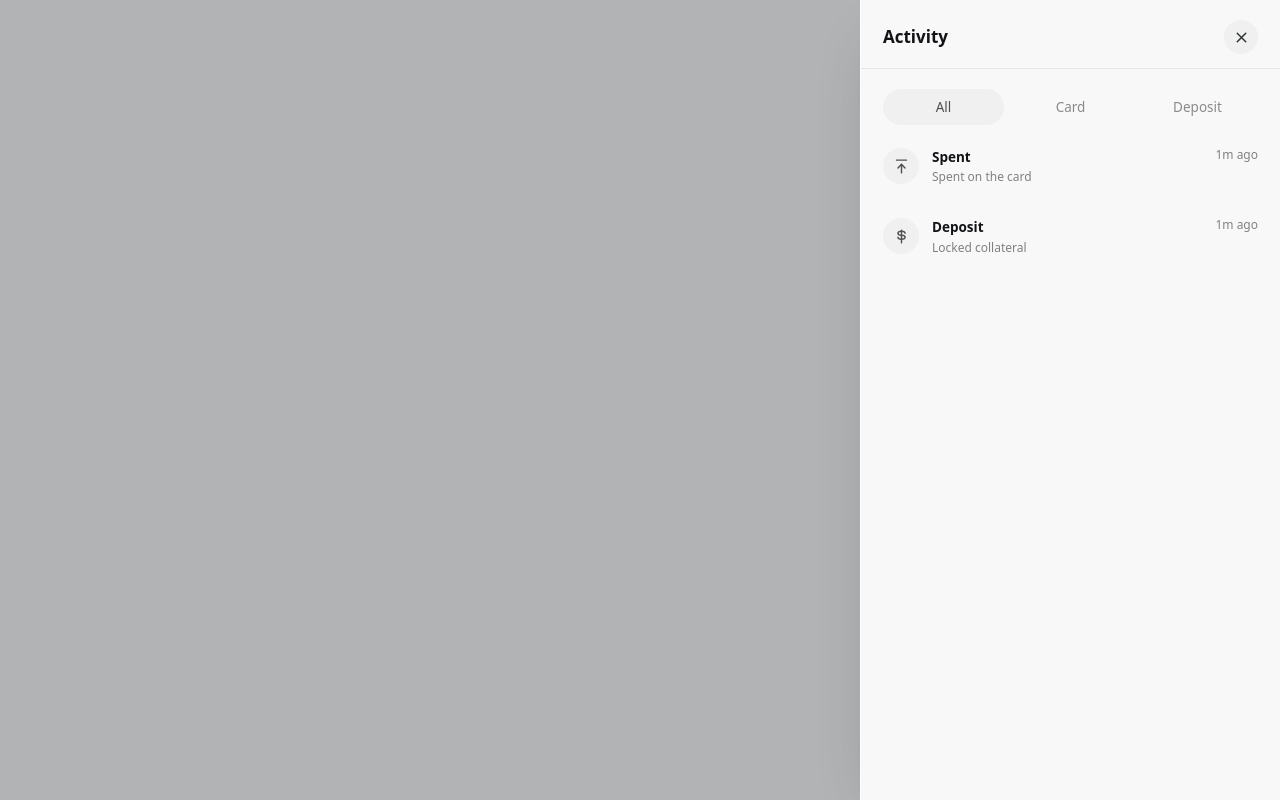
Scenario: each tab shows only its own group
The image size is (1280, 800).
Expected: the text "Spent on the card" is shown, [932,168,1032,185]
Expected: the text "Locked collateral" is shown, [932,238,1027,256]
Click the button "Card" at (1070,107), box [1010,89,1131,125]
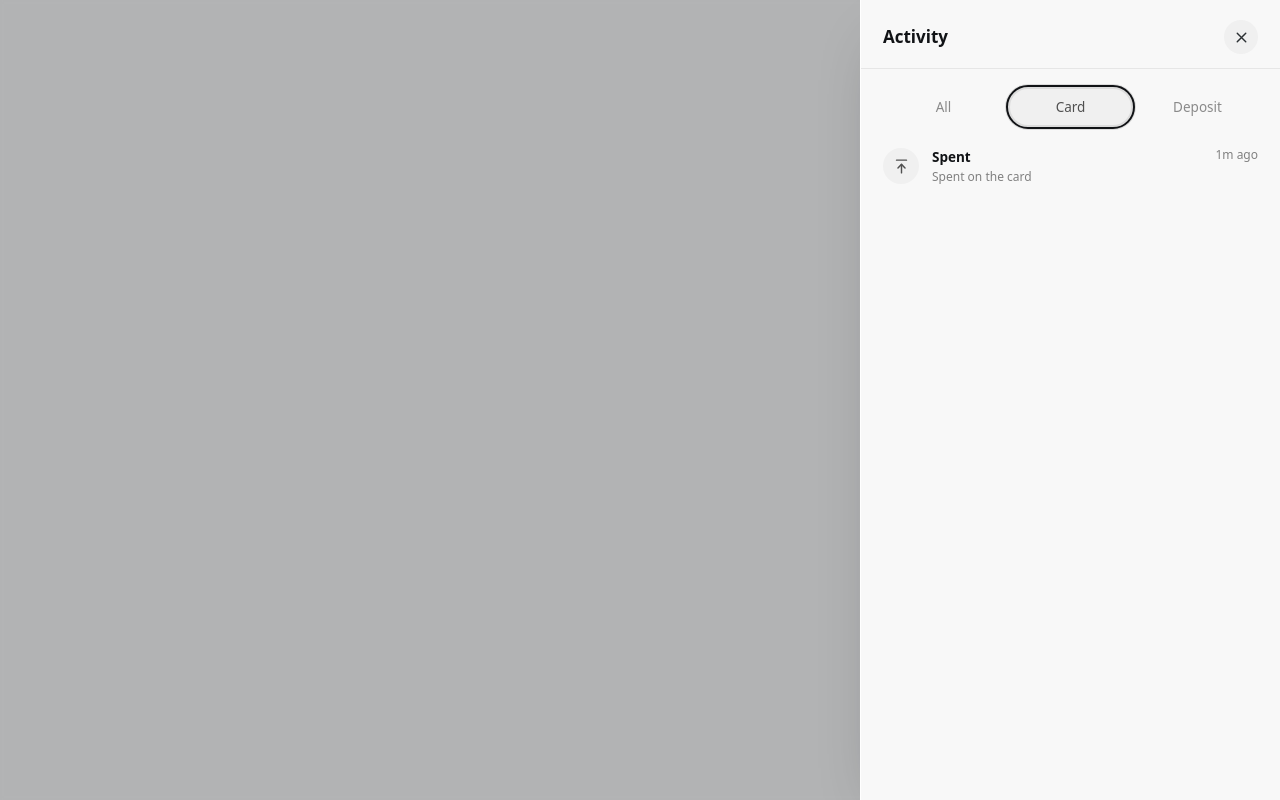
Expected: the text "Spent on the card" is shown, [932,168,1032,185]
Now the text "Locked collateral" is gone
Click the button "Deposit" at (1198,107), box [1137,89,1258,125]
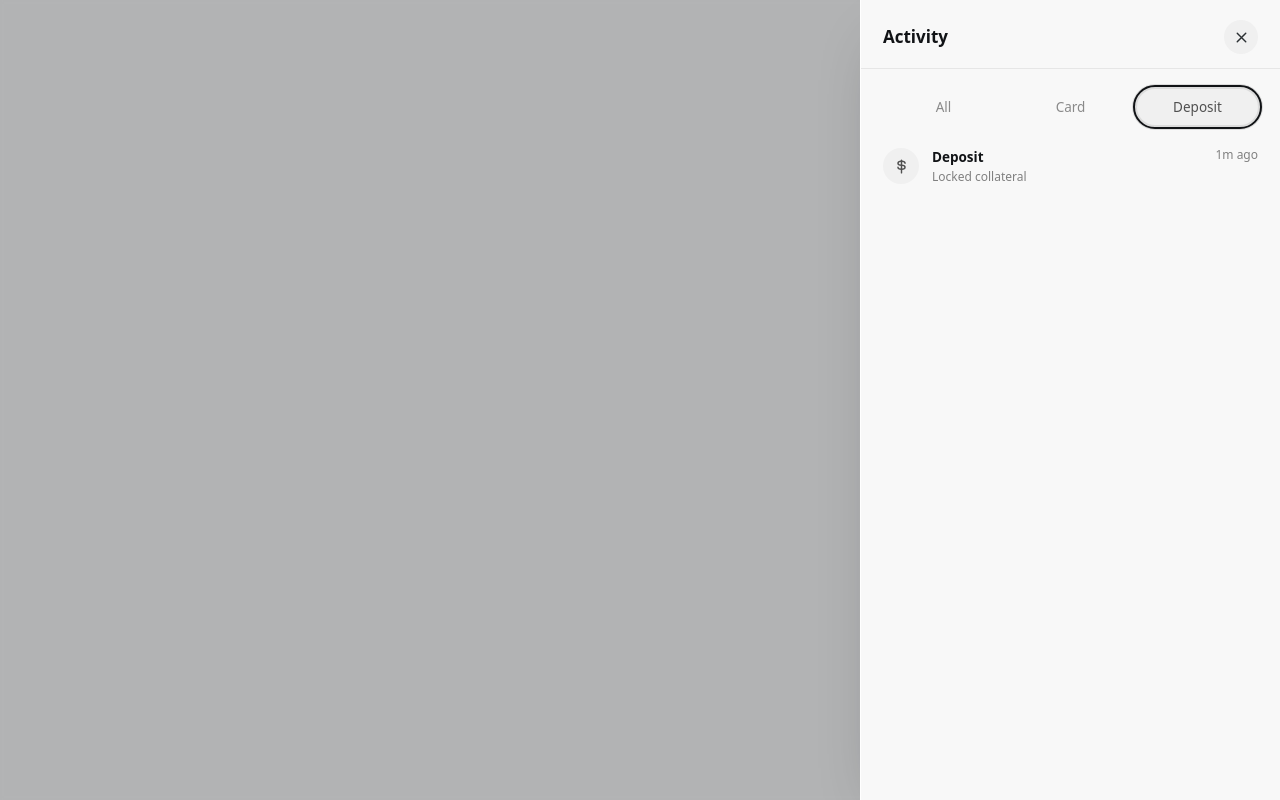
Now the text "Locked collateral" is shown, box [932,168,1027,185]
Now the text "Spent on the card" is gone
